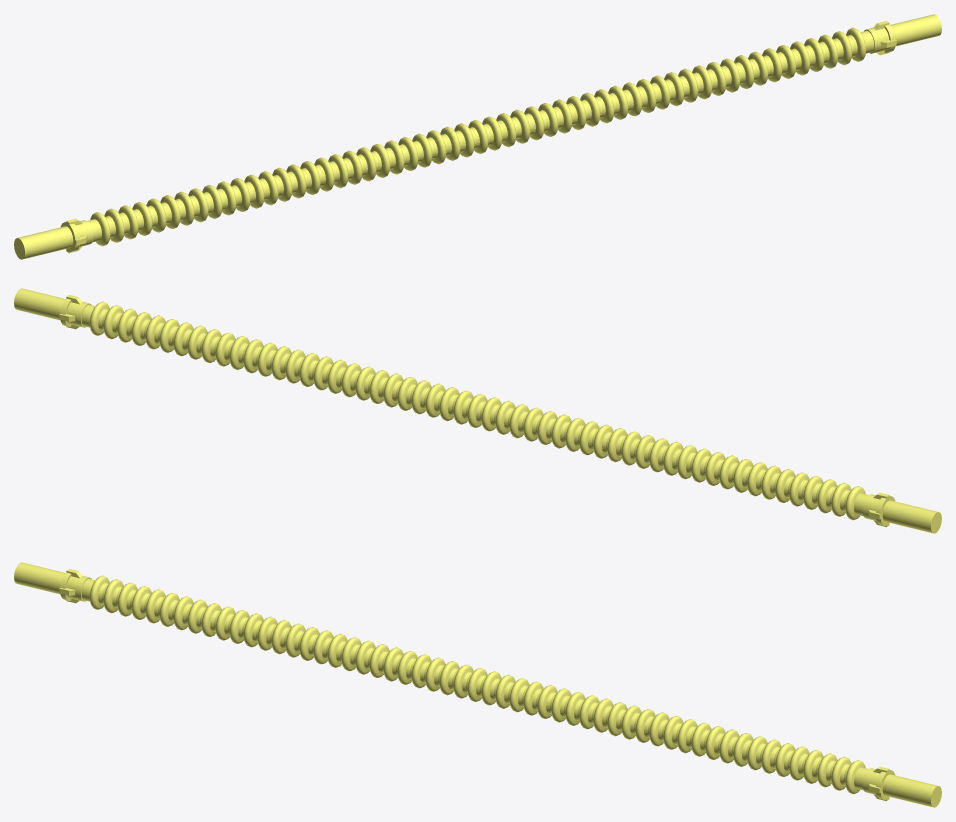
The picture shows the model from 3 angles, top to bottom: view 1: azimuth 30°, elevation 25°; view 2: azimuth 150°, elevation 25°; view 3: azimuth 330°, elevation 25°; orthographic projection.
Parts seen in each view (by area): view 1: 57539k01.dat (×2); view 2: 57539k01.dat (×2); view 3: 57539k01.dat (×2).
Boxes of the visible parts, bbox=[...] form: 57539k01.dat (×2): bbox=[14, 14, 941, 259]; 57539k01.dat (×2): bbox=[14, 288, 941, 533]; 57539k01.dat (×2): bbox=[14, 562, 941, 807].
Bounding box in the file's own units: 0.152 × 0.005 × 0.005.
